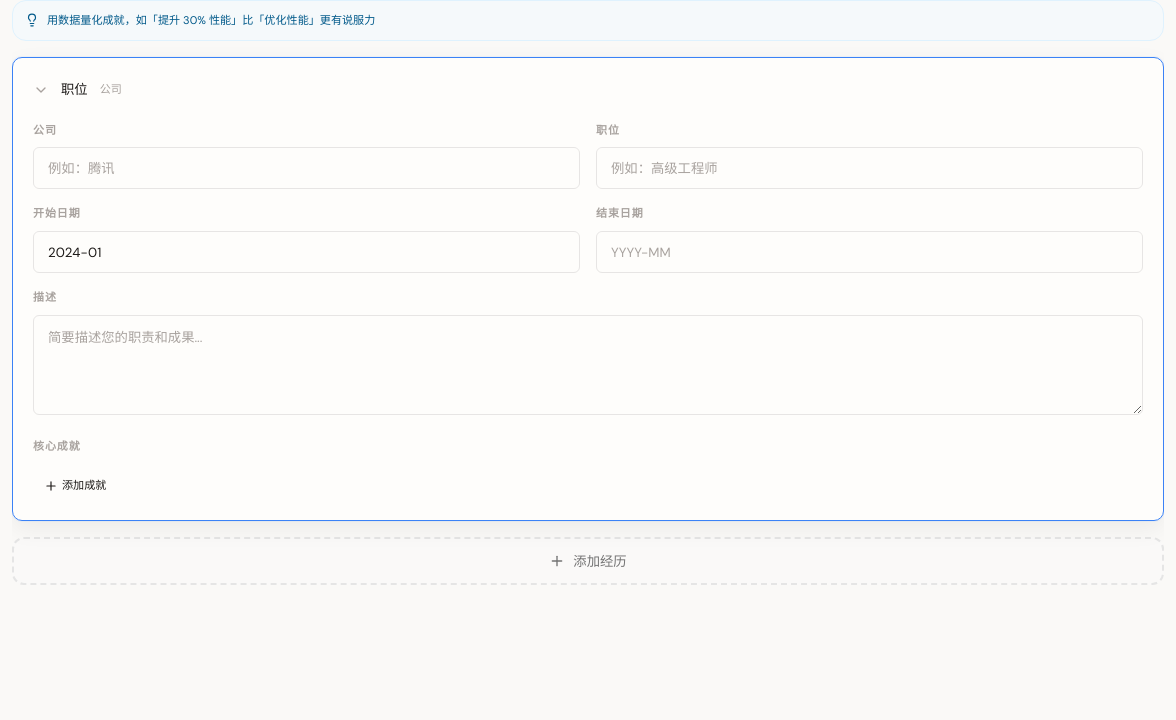
Test: ExperienceSection › allows editing position
Card is expanded because company is empty
Type "Senior Dev" into the field labelled "职位".
click(870, 168); type("Senior Dev")  # box x1=596 y1=147 x2=1143 y2=189
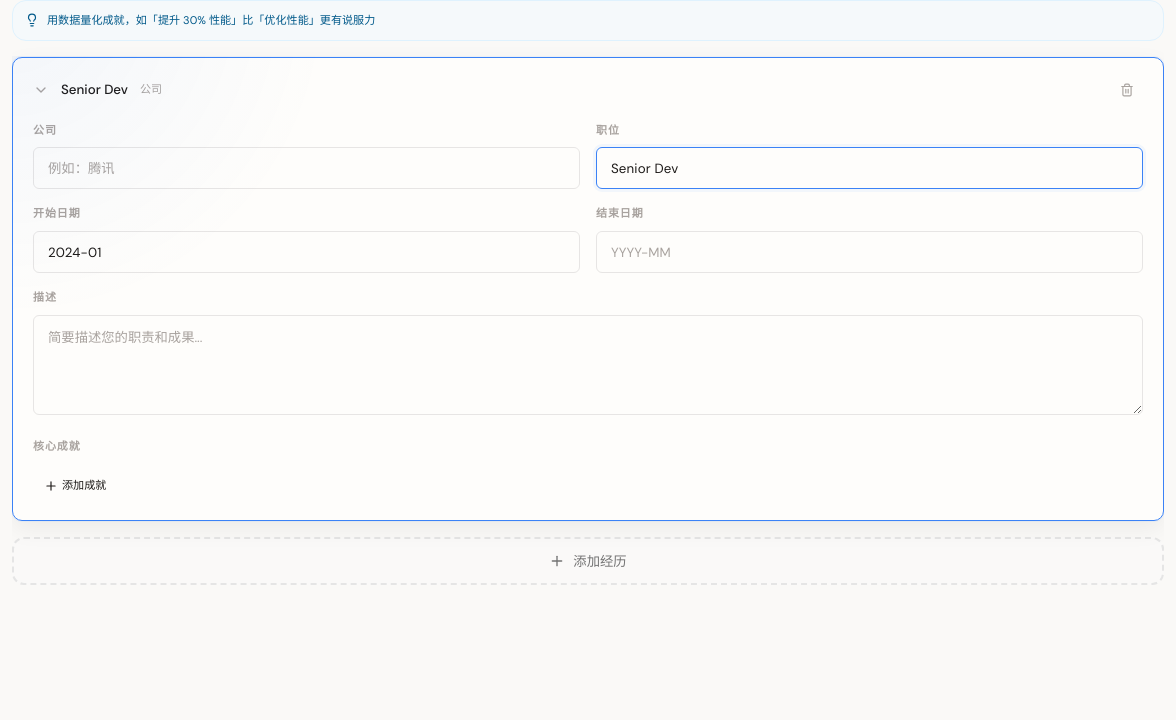
Expected: the text "Senior Dev" is shown, x1=61 y1=80 x2=128 y2=99
